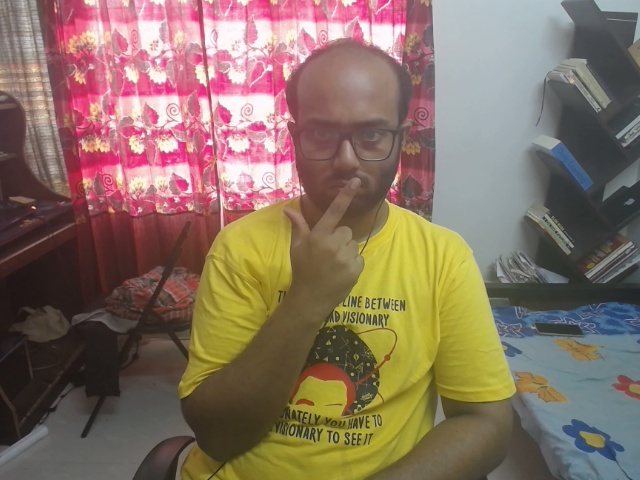seven: (272, 162, 388, 312)
